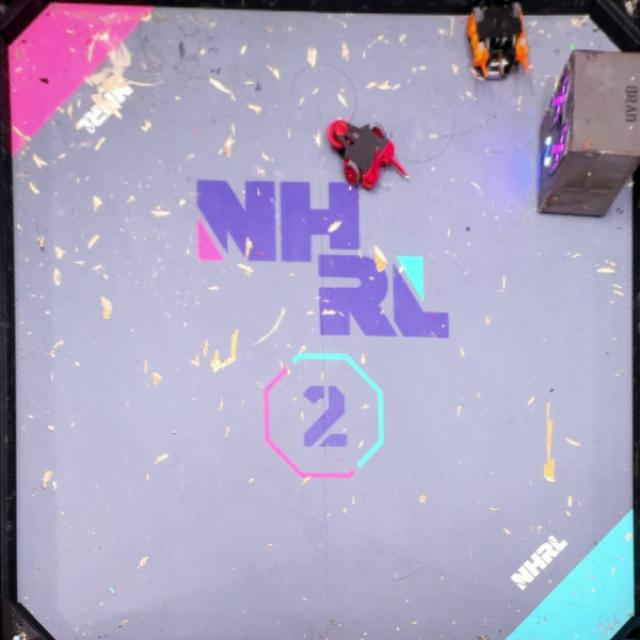housebot: (536, 50, 640, 219)
robot: (327, 121, 408, 191), (465, 1, 530, 81)
